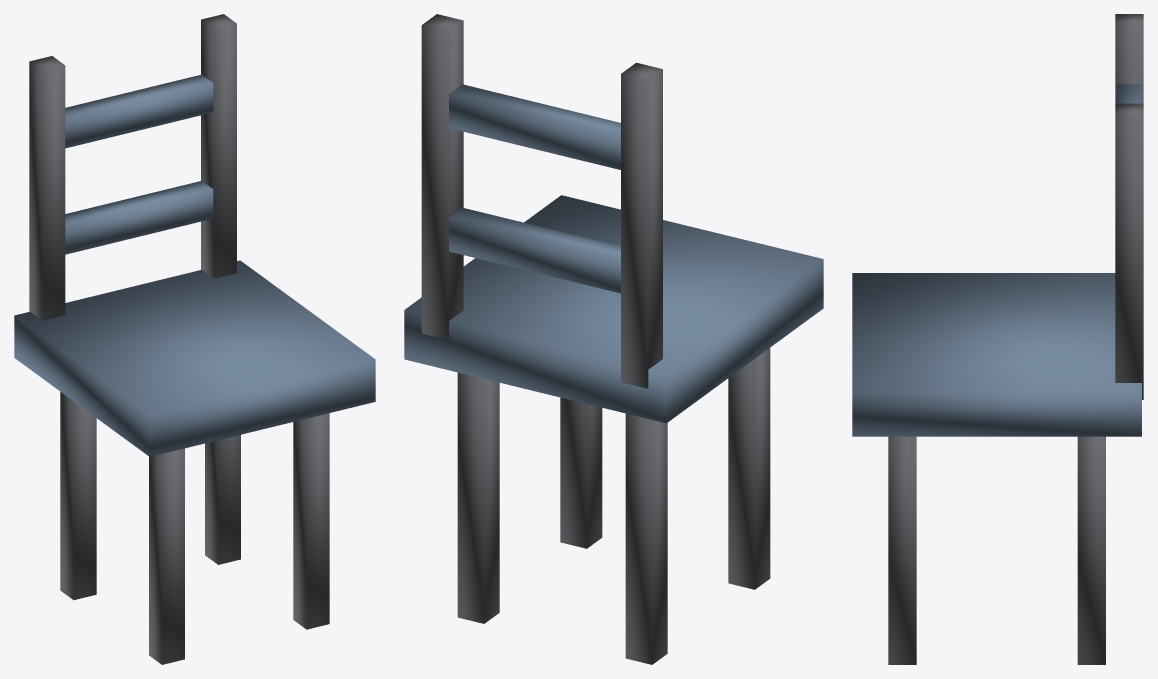
Rendered from waiting_chair.glb.
3 renders of one model, left to right at view 1: azimuth 30°, elevation 25°; view 2: azimuth 150°, elevation 25°; view 3: azimuth 270°, elevation 25°, orthographic. The views are drawn at different scales.
Visible parts, largest first — view 1: world; view 2: world; view 3: world.
Boxes of the visible parts, left/top/right/bottom form: world: left=14, top=14, right=375, bottom=664; world: left=404, top=14, right=823, bottom=664; world: left=852, top=14, right=1143, bottom=664.
Bounding box in the file's own units: 0.445 × 0.9782 × 0.4641.
